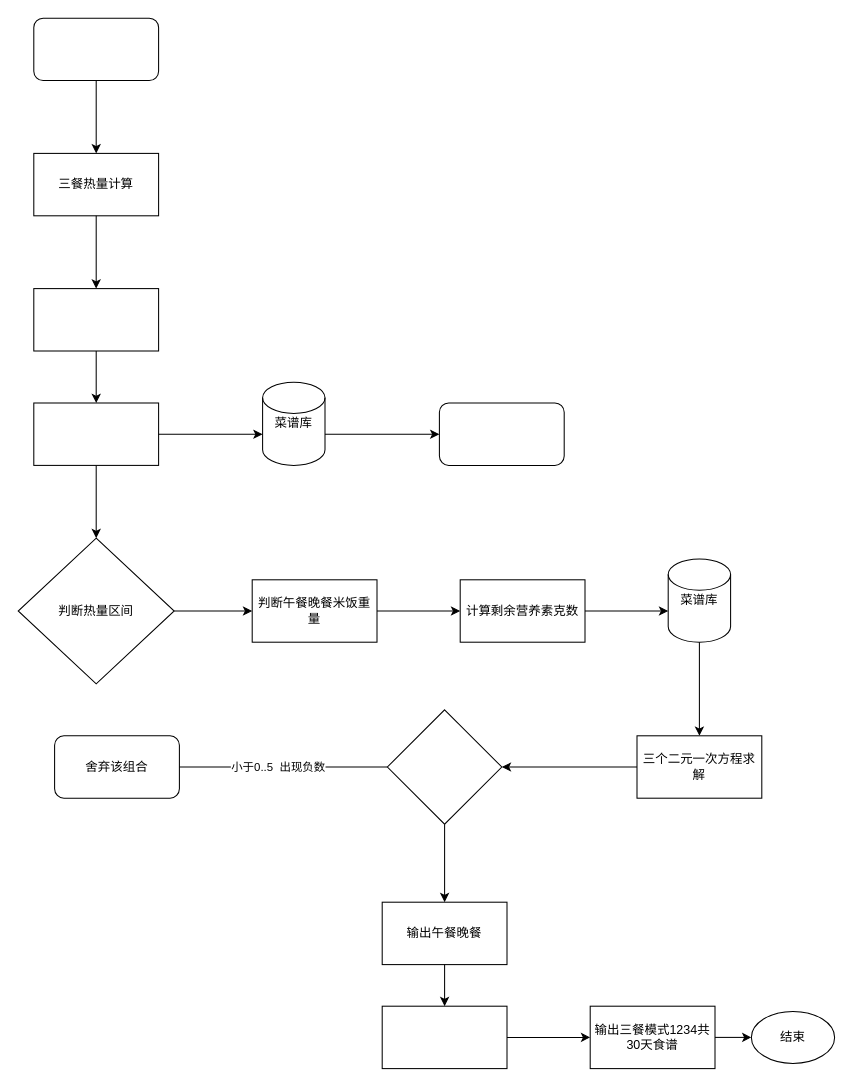
The diagram is 853 pixels wide and 1087 high, and some of its shapes have lost their labels. Here are the shapes that lost their labels. From the top down, the box of each, then its label:
(33, 17, 159, 81): 目标热量
(33, 288, 159, 351): 选择三餐模式1234
(33, 402, 159, 465): 确定早餐营养素g数
(438, 402, 564, 465): 输出早餐食谱
(386, 709, 502, 824): 判断是否满足条件
(381, 1005, 507, 1069): 输出加餐
